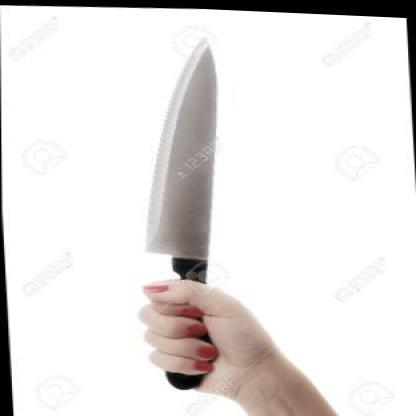knife: (109, 19, 236, 373)
